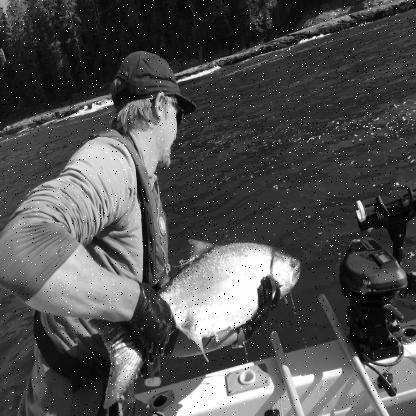fish: (88, 237, 302, 408)
